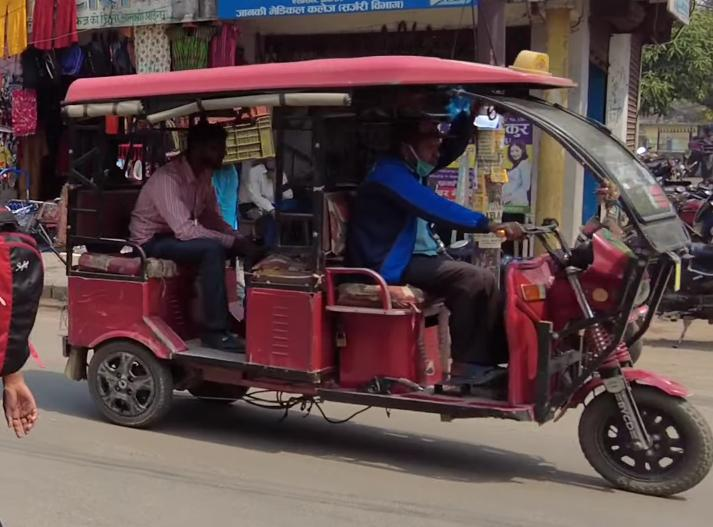e-rickshaw: (47, 45, 713, 499)
